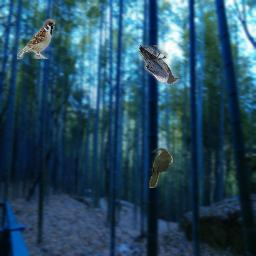Crow: (139, 45, 179, 85)
Cuckoo: (149, 148, 173, 188)
Sparrow: (17, 19, 55, 59)
